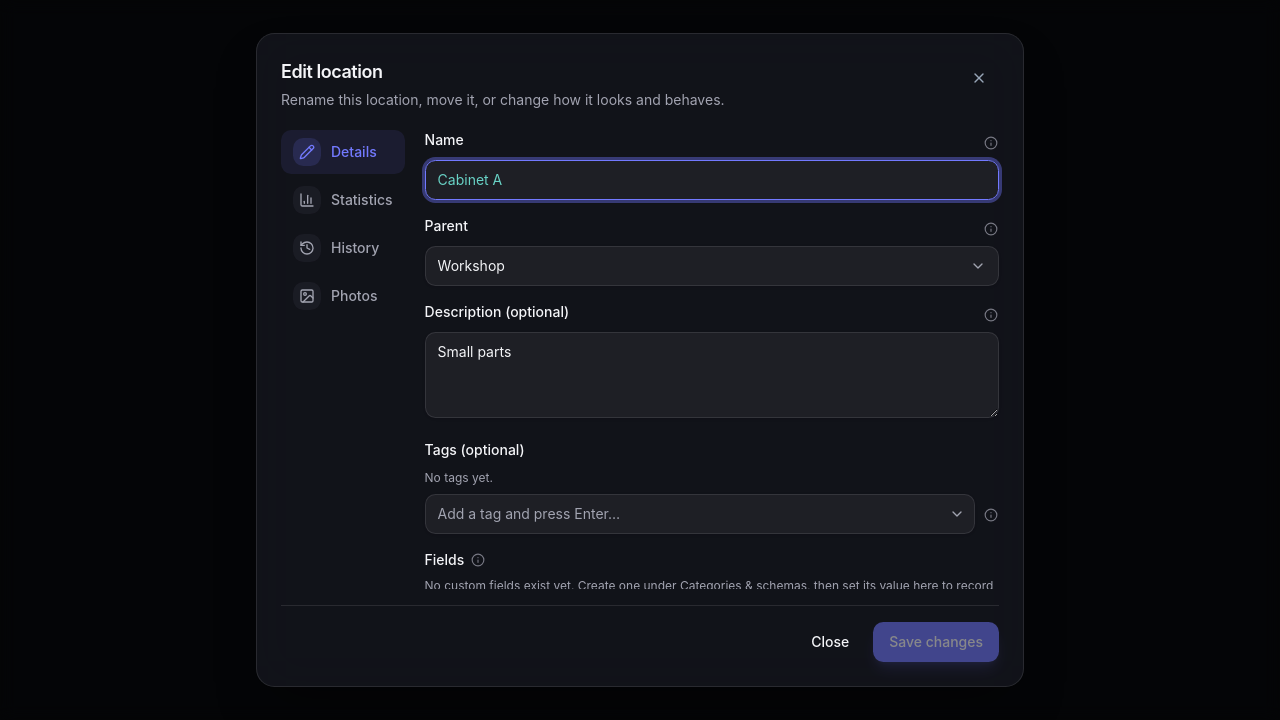
Test: EditLocationDialog — saving › surfaces a failed save in an alert and keeps the dialog open
This screenshot has width=1280, height=720.
Replace the text in the field labelled "Name" with "Cabinet B" at (712, 180), box [425,160,999,200]
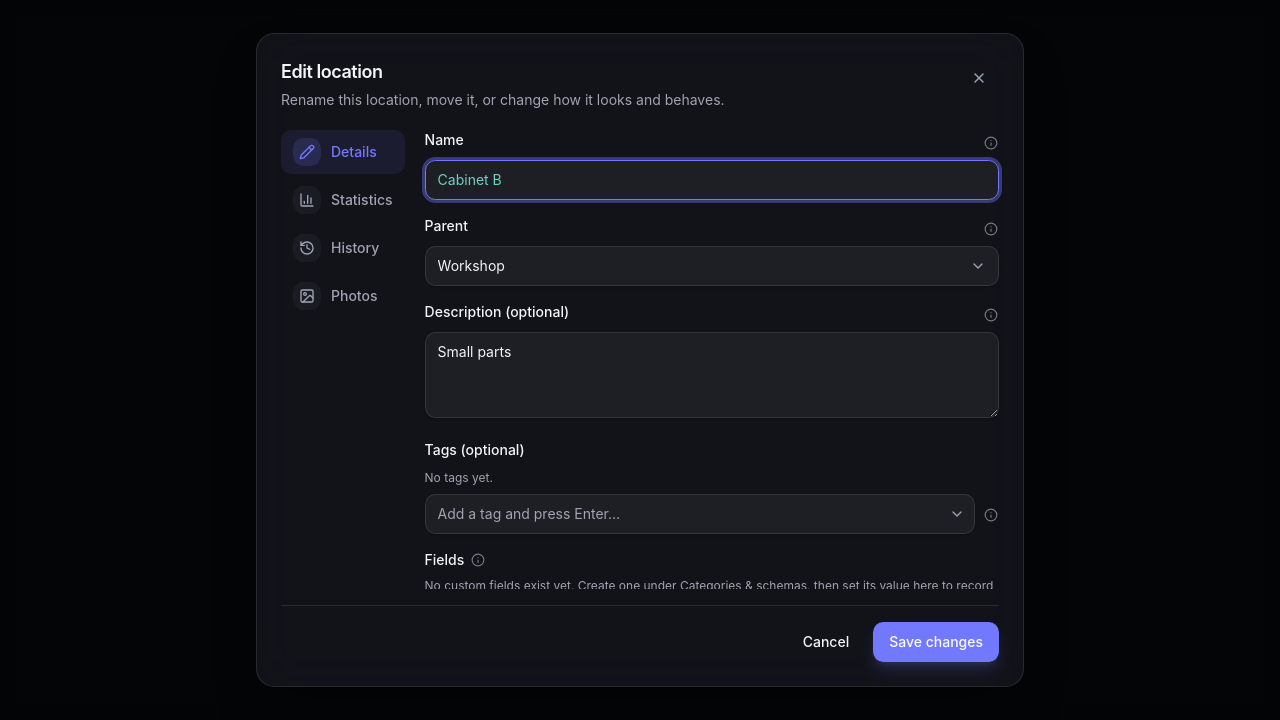
Click the button "Save changes" at (936, 642), box [873,622,999,662]
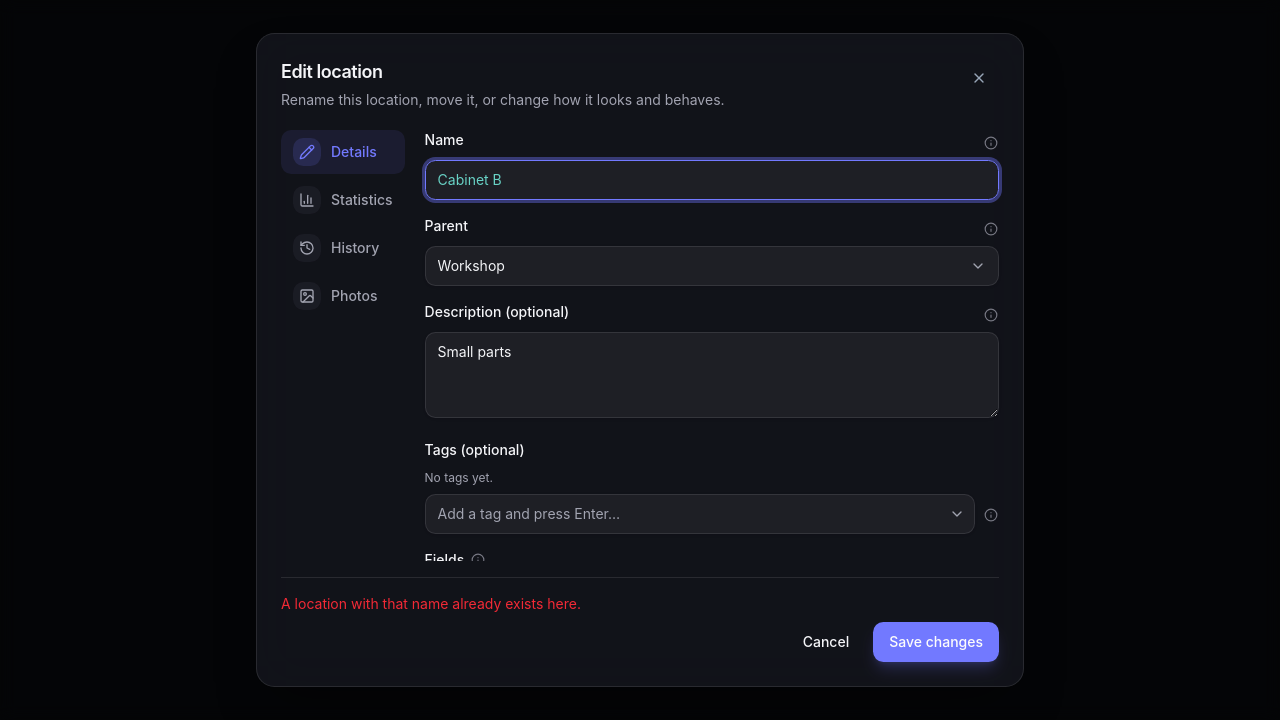
Check: the message reads "A location with that name already exists here.", box [281,595,581,612]
